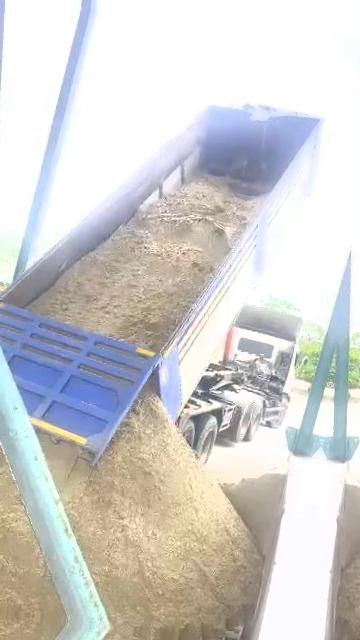sand: (42, 394, 260, 636), (28, 178, 262, 350), (0, 405, 61, 620), (222, 463, 286, 560), (137, 373, 158, 398)
